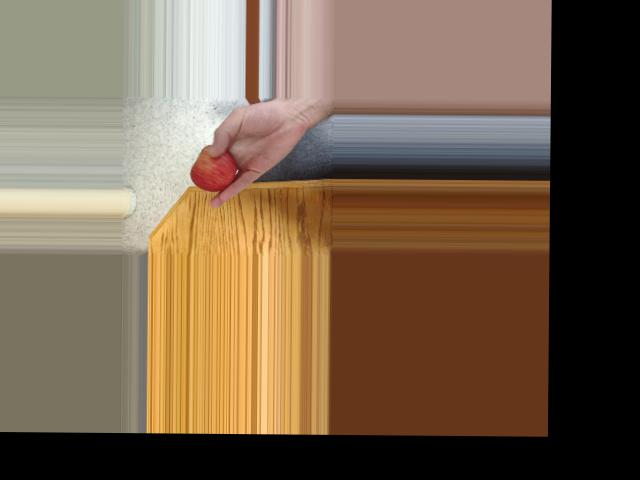apple: (186, 143, 243, 192)
